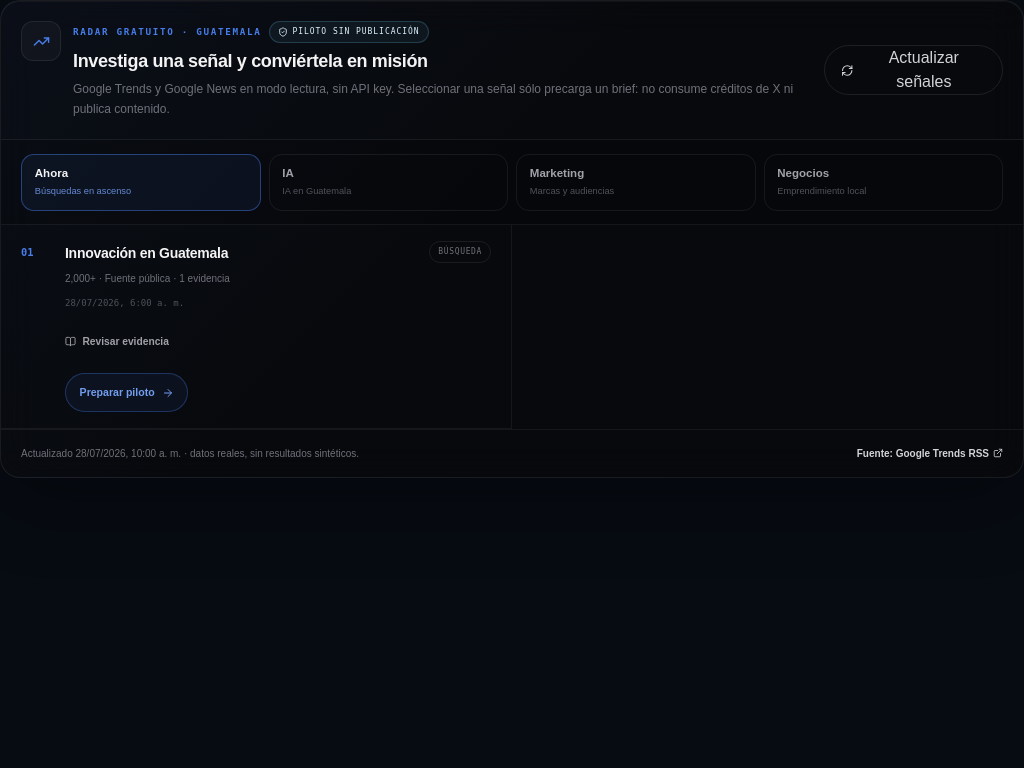
Scenario: TrendRadar › renders verified evidence and prepares a no-publication pilot brief
Expected: the heading "Innovación en Guatemala" is shown, [65,241,228,265]
Expected: the text "2,000+ · Fuente pública · 1 evidencia" is shown, [65,273,230,284]
Click the heading "Revisar evidencia" at (117, 341), box [65,336,169,347]
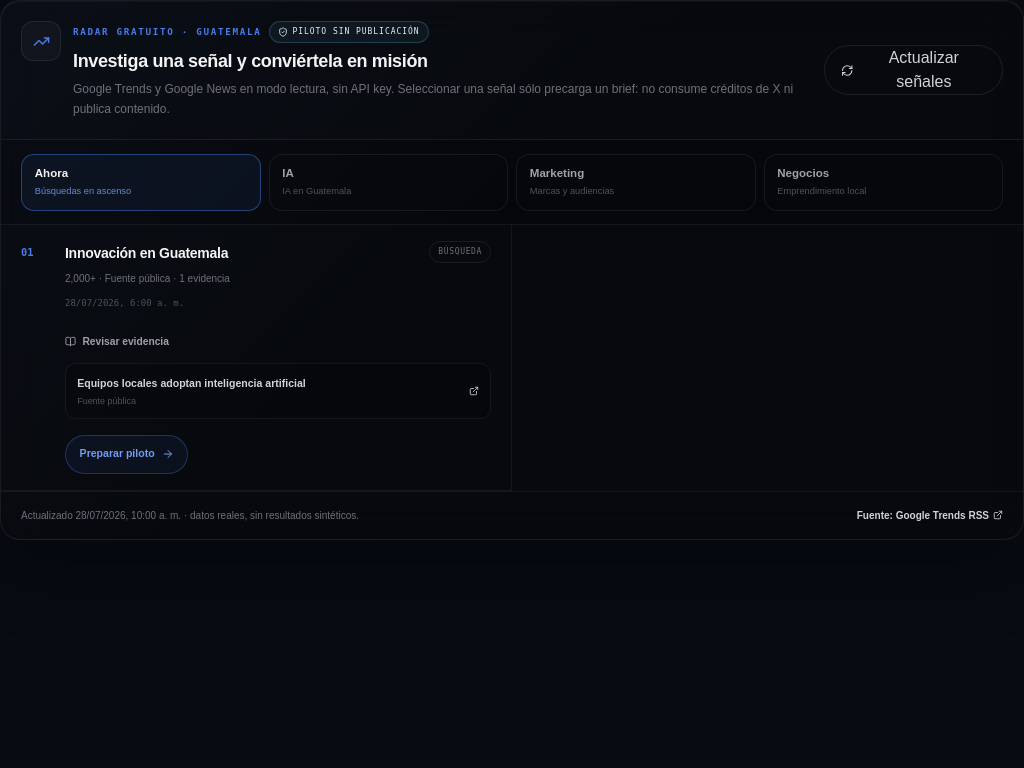
Click the button "Preparar piloto" at (127, 454), box [65,435,188,474]
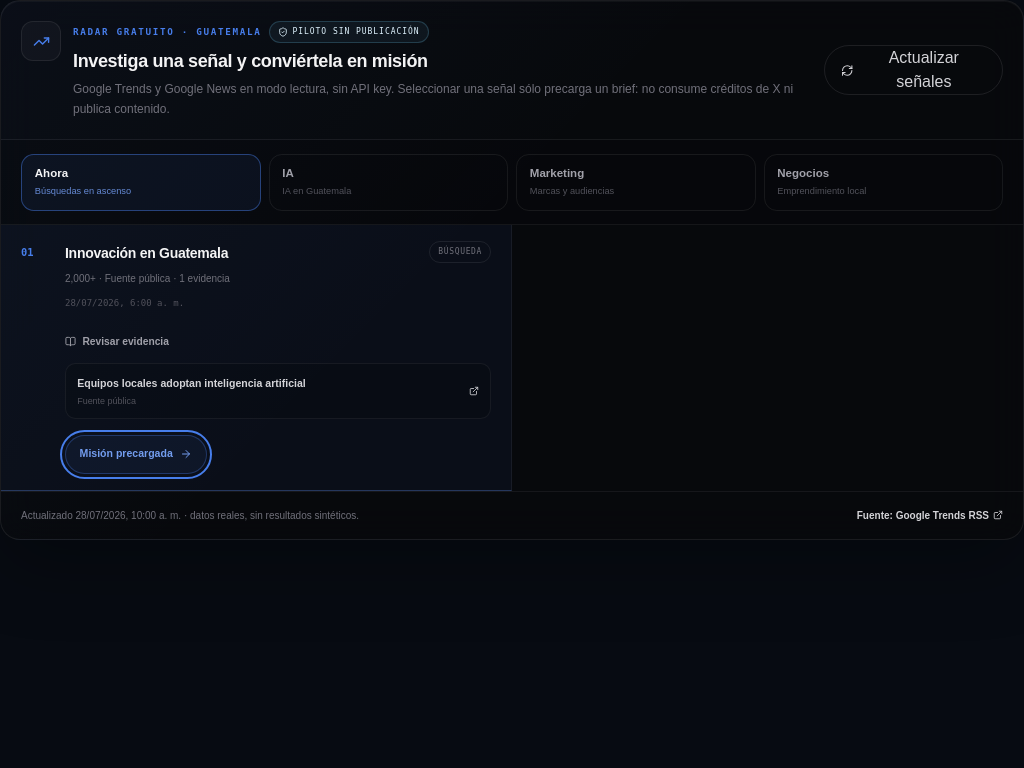
Result: the button "Misión precargada" is shown at [65,435,207,474]
